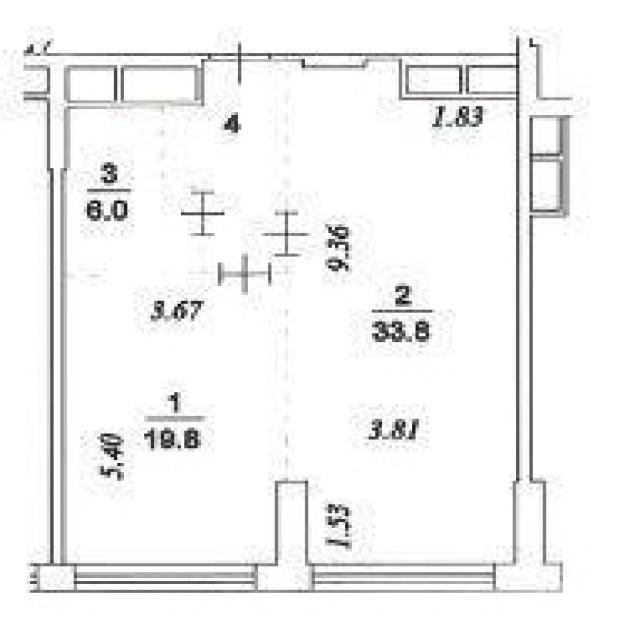Doors: (210, 38, 269, 87)
LBwalls: (497, 480, 564, 594), (258, 479, 312, 595), (37, 563, 73, 593)
Offices: (67, 62, 515, 561)
Walls: (269, 38, 576, 479), (22, 52, 210, 562)
Windows: (75, 562, 258, 593), (313, 563, 496, 593)
